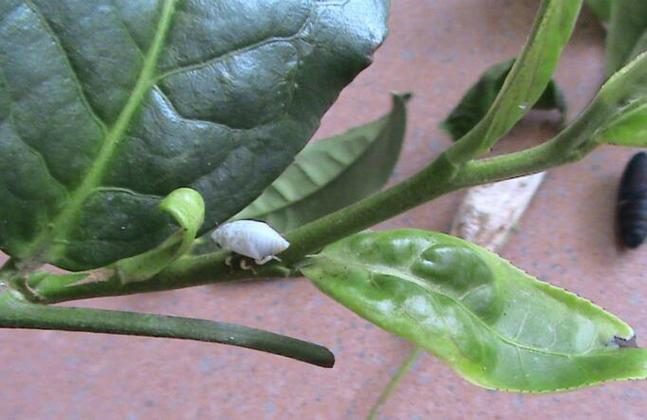Cicadellidae: (212, 220, 289, 265)
